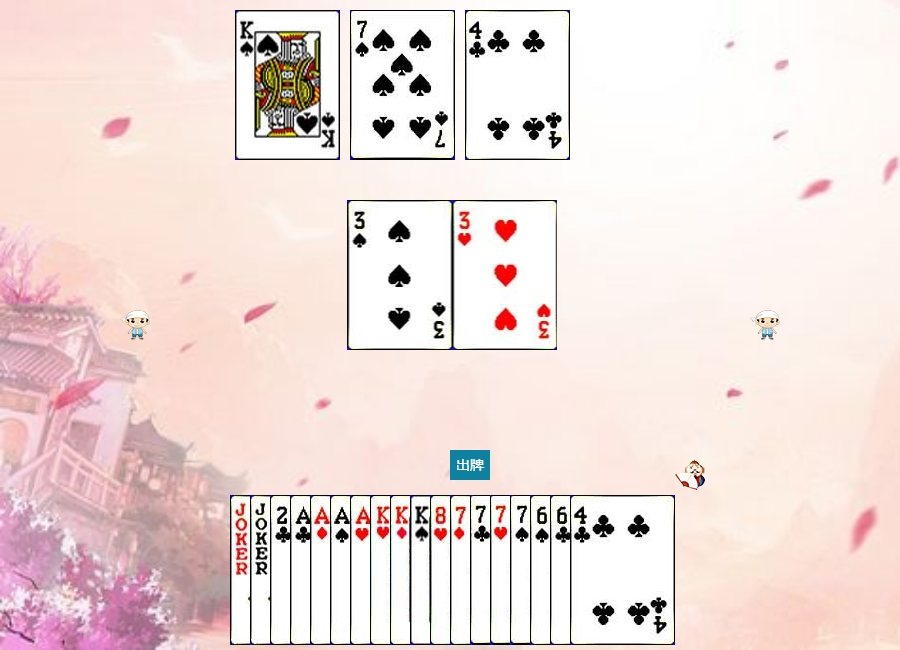13~1: (390, 495, 495, 645)
13~3: (370, 495, 475, 645)
13~4: (235, 10, 340, 160), (410, 495, 515, 645)
14~1: (310, 495, 415, 645)
14~2: (290, 495, 395, 645)
14~3: (350, 495, 455, 645)
14~4: (330, 495, 435, 645)
15~2: (270, 495, 375, 645)
17~3: (250, 495, 355, 645)
18~4: (230, 495, 335, 645)
3~3: (453, 200, 558, 350)
3~4: (348, 200, 453, 350)
4~2: (465, 10, 570, 160), (570, 495, 675, 645)
6~2: (550, 495, 655, 645)
6~4: (530, 495, 635, 645)
7~1: (450, 495, 555, 645)
7~2: (470, 495, 575, 645)
7~3: (490, 495, 595, 645)
7~4: (350, 10, 455, 160), (510, 495, 615, 645)
8~3: (430, 495, 535, 645)
